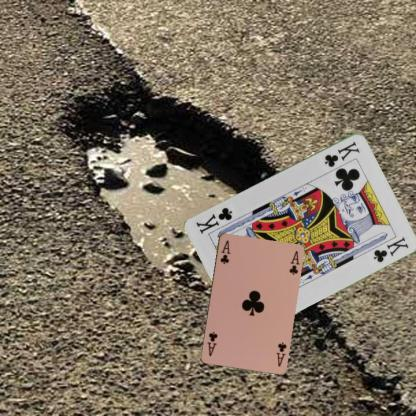Ac: (273, 339, 288, 368), (217, 238, 231, 265)
Kc: (322, 139, 362, 168)
